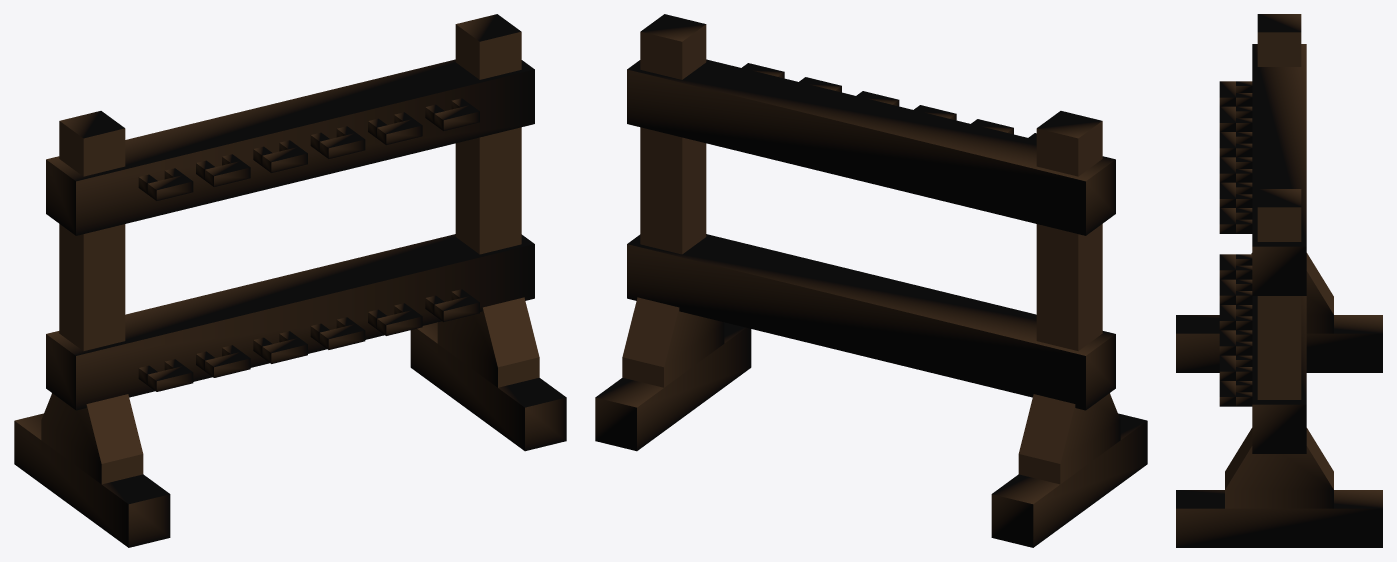
Rendered from weapon_rack.gltf.
3 renders of one model, left to right at view 1: azimuth 30°, elevation 25°; view 2: azimuth 150°, elevation 25°; view 3: azimuth 270°, elevation 25°, orthographic. The views are drawn at different scales.
Visible parts, largest first — view 1: WeaponRack; view 2: WeaponRack; view 3: WeaponRack.
Boxes of the visible parts, bbox=[...] form: WeaponRack: bbox=[14, 14, 566, 547]; WeaponRack: bbox=[595, 14, 1147, 547]; WeaponRack: bbox=[1176, 14, 1382, 547].
Size of the model in its own units: 2.74 by 2.15 by 1.18.
